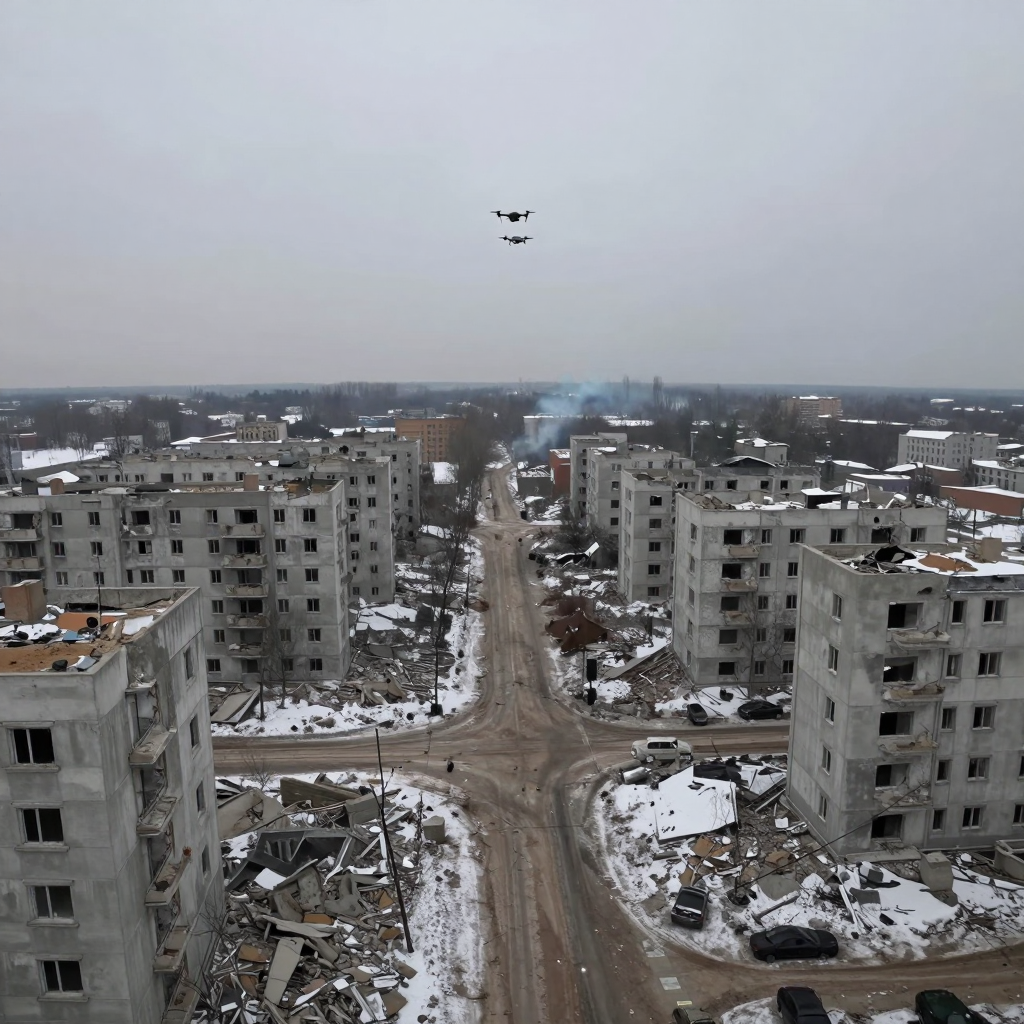drone: (490, 210, 536, 224), (498, 235, 533, 246)
